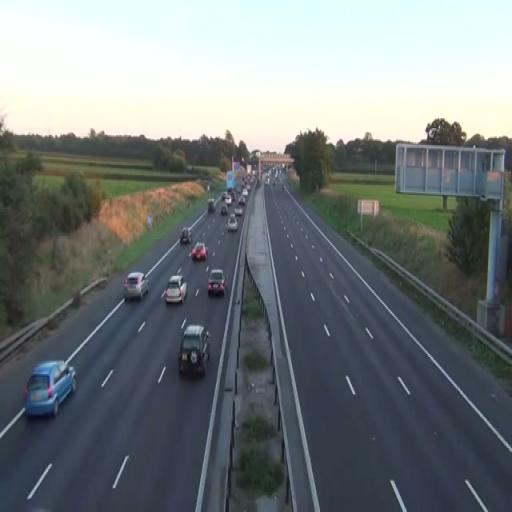Car: (23, 359, 77, 419), (177, 322, 212, 378), (123, 272, 149, 302), (164, 275, 188, 305), (206, 269, 226, 297), (191, 242, 208, 261), (180, 227, 192, 244), (228, 214, 238, 233)
